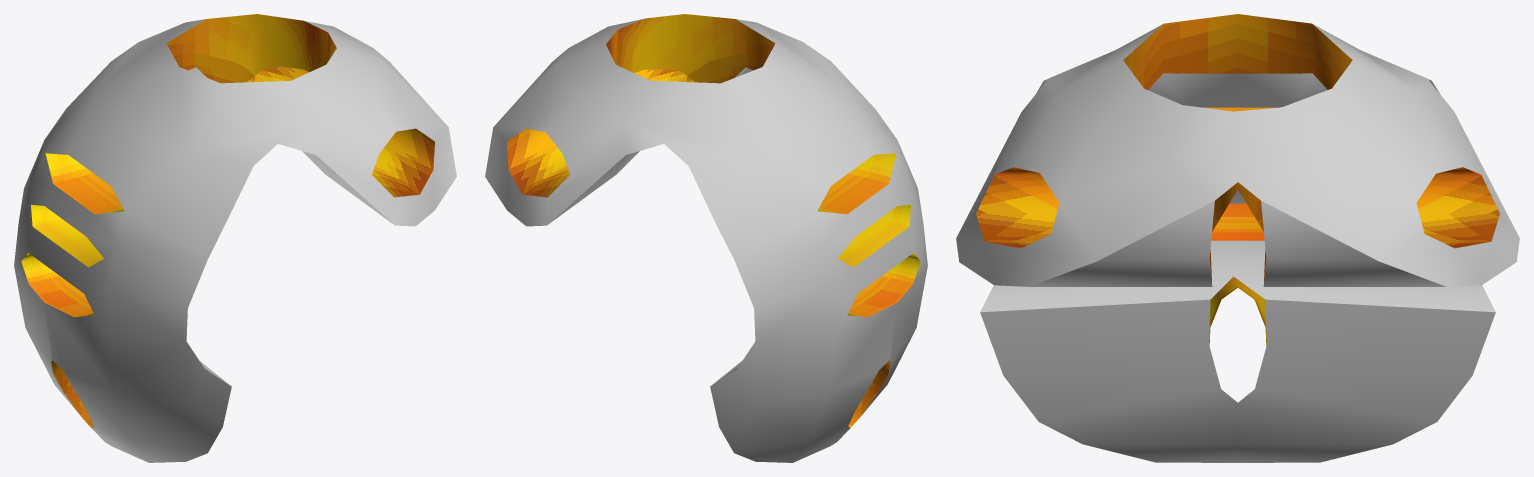
The model's file is frn_quest_honor_l1.fbx.
3 views of the same model, side by side, from view 1: azimuth 30°, elevation 25°; view 2: azimuth 150°, elevation 25°; view 3: azimuth 270°, elevation 25° (orthographic). The views are drawn at different scales.
Visible parts, largest first — view 1: mesh_node; view 2: mesh_node; view 3: mesh_node.
Boxes of the visible parts, bbox=[...] form: mesh_node: bbox=[14, 14, 456, 462]; mesh_node: bbox=[485, 14, 927, 462]; mesh_node: bbox=[956, 14, 1519, 462].
Bounding box in the file's own units: 0.6845 × 0.6738 × 0.6972.
